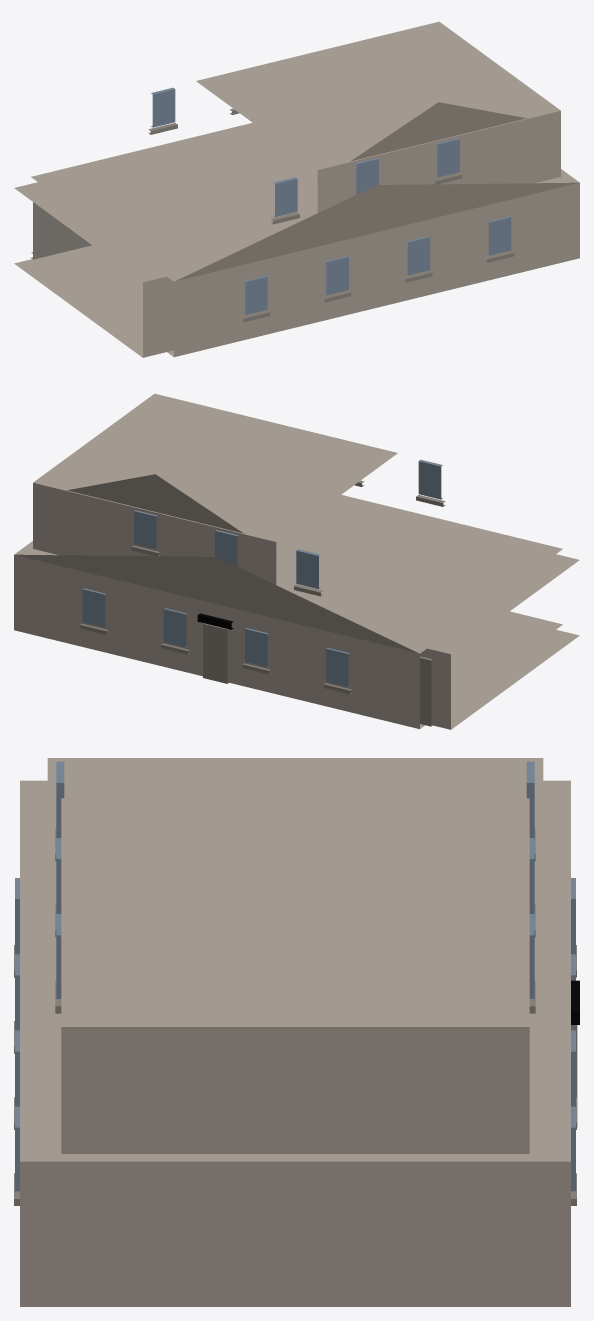
Rendered from split_level_ranch.glb.
3 views of the same model, one above another, from view 1: azimuth 30°, elevation 25°; view 2: azimuth 150°, elevation 25°; view 3: azimuth 270°, elevation 25° (orthographic). The views are drawn at different scales.
Visible parts, largest first — view 1: split_level_ranch; view 2: split_level_ranch; view 3: split_level_ranch.
Part boxes in pixels (x1,y1,x2,y2): split_level_ranch: (14, 21, 579, 357); split_level_ranch: (14, 393, 579, 729); split_level_ranch: (14, 758, 579, 1306).
Bounding box in the file's own units: 19.06 × 7.6 × 11.3.
